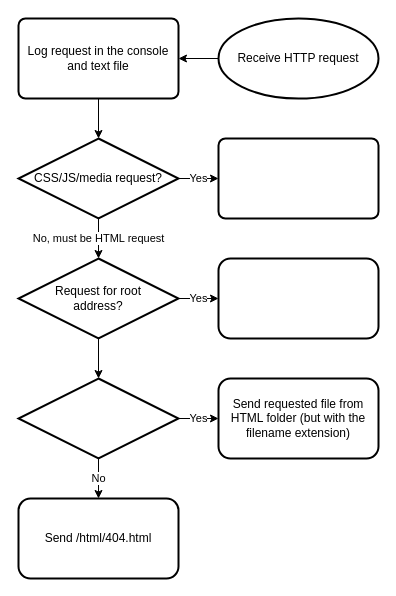
This 396x596 diagram has some shape labels left out. The shapes that lost their labels are listed below. From the top down, each one's centre as x and y in pixels, then its label:
[298,178]: Send requested file from the css, js or media folder
[298,298]: Send /html/index.html
[98,418]: Does requested page exist?
